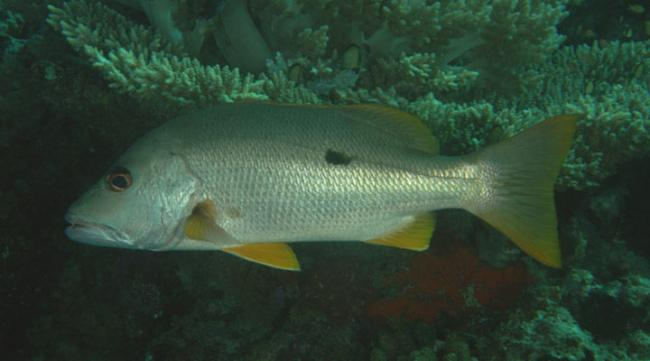fish: (64, 101, 578, 273)
